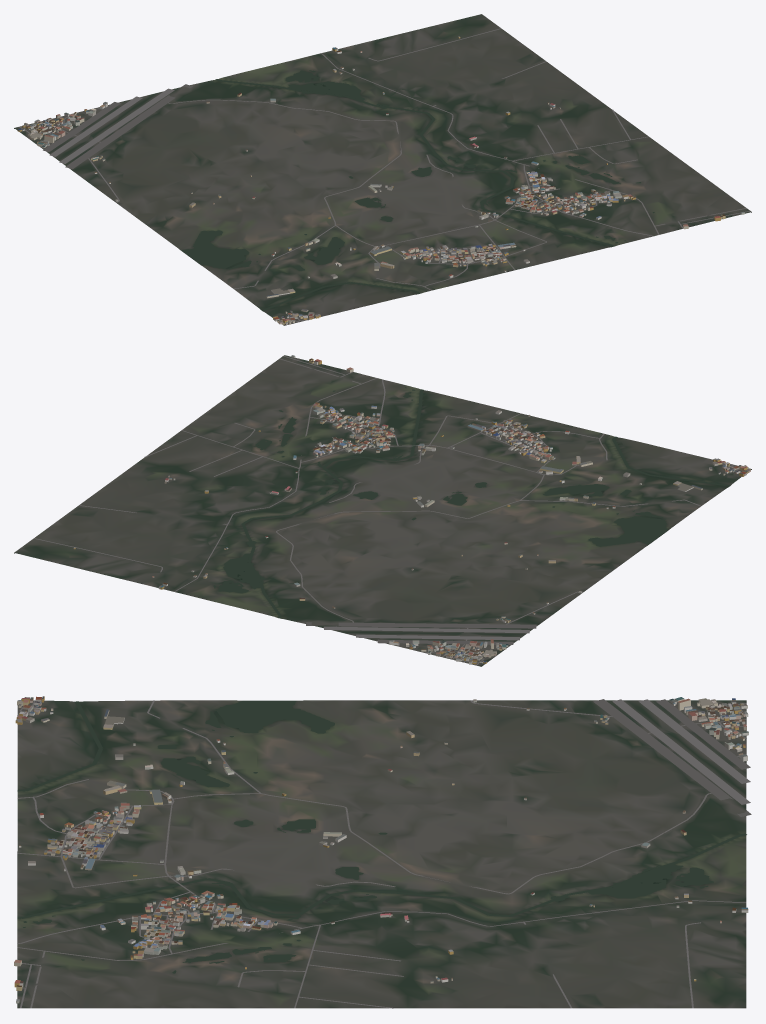
The picture shows the model from 3 angles, top to bottom: view 1: azimuth 30°, elevation 25°; view 2: azimuth 150°, elevation 25°; view 3: azimuth 270°, elevation 25°; orthographic projection. The views are drawn at different scales.
Visible parts, largest first — view 1: ground, buildings, roads, water; view 2: ground, buildings, roads, water; view 3: ground, buildings, roads, water.
Part boxes in pixels (left/top/right/bottom): ground: left=14, top=14, right=751, bottom=325; buildings: left=17, top=36, right=744, bottom=324; roads: left=19, top=28, right=750, bottom=321; water: left=181, top=70, right=654, bottom=311; ground: left=14, top=355, right=751, bottom=666; buildings: left=73, top=355, right=750, bottom=664; roads: left=34, top=355, right=741, bottom=665; water: left=213, top=387, right=730, bottom=618; ground: left=17, top=700, right=746, bottom=1008; buildings: left=14, top=696, right=748, bottom=1003; roads: left=17, top=699, right=751, bottom=1008; water: left=17, top=700, right=746, bottom=973.
Bounding box in the file's own units: 1408 × 22.53 × 1419.
